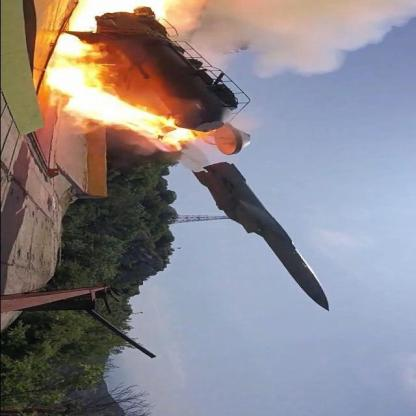MIL_TBM: (191, 158, 350, 313)
